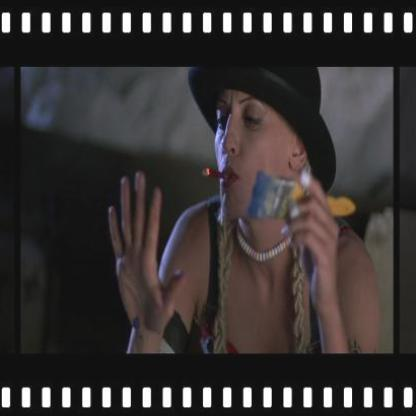cigarette: (201, 166, 230, 180)
person: (166, 68, 358, 356)
